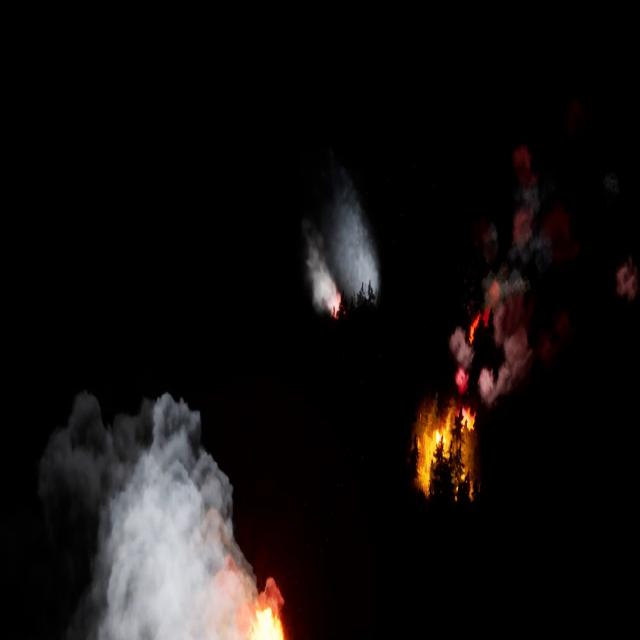fire: (414, 404, 481, 510), (255, 579, 291, 639)
smoke: (45, 385, 258, 639), (448, 140, 547, 409), (301, 188, 387, 315)
